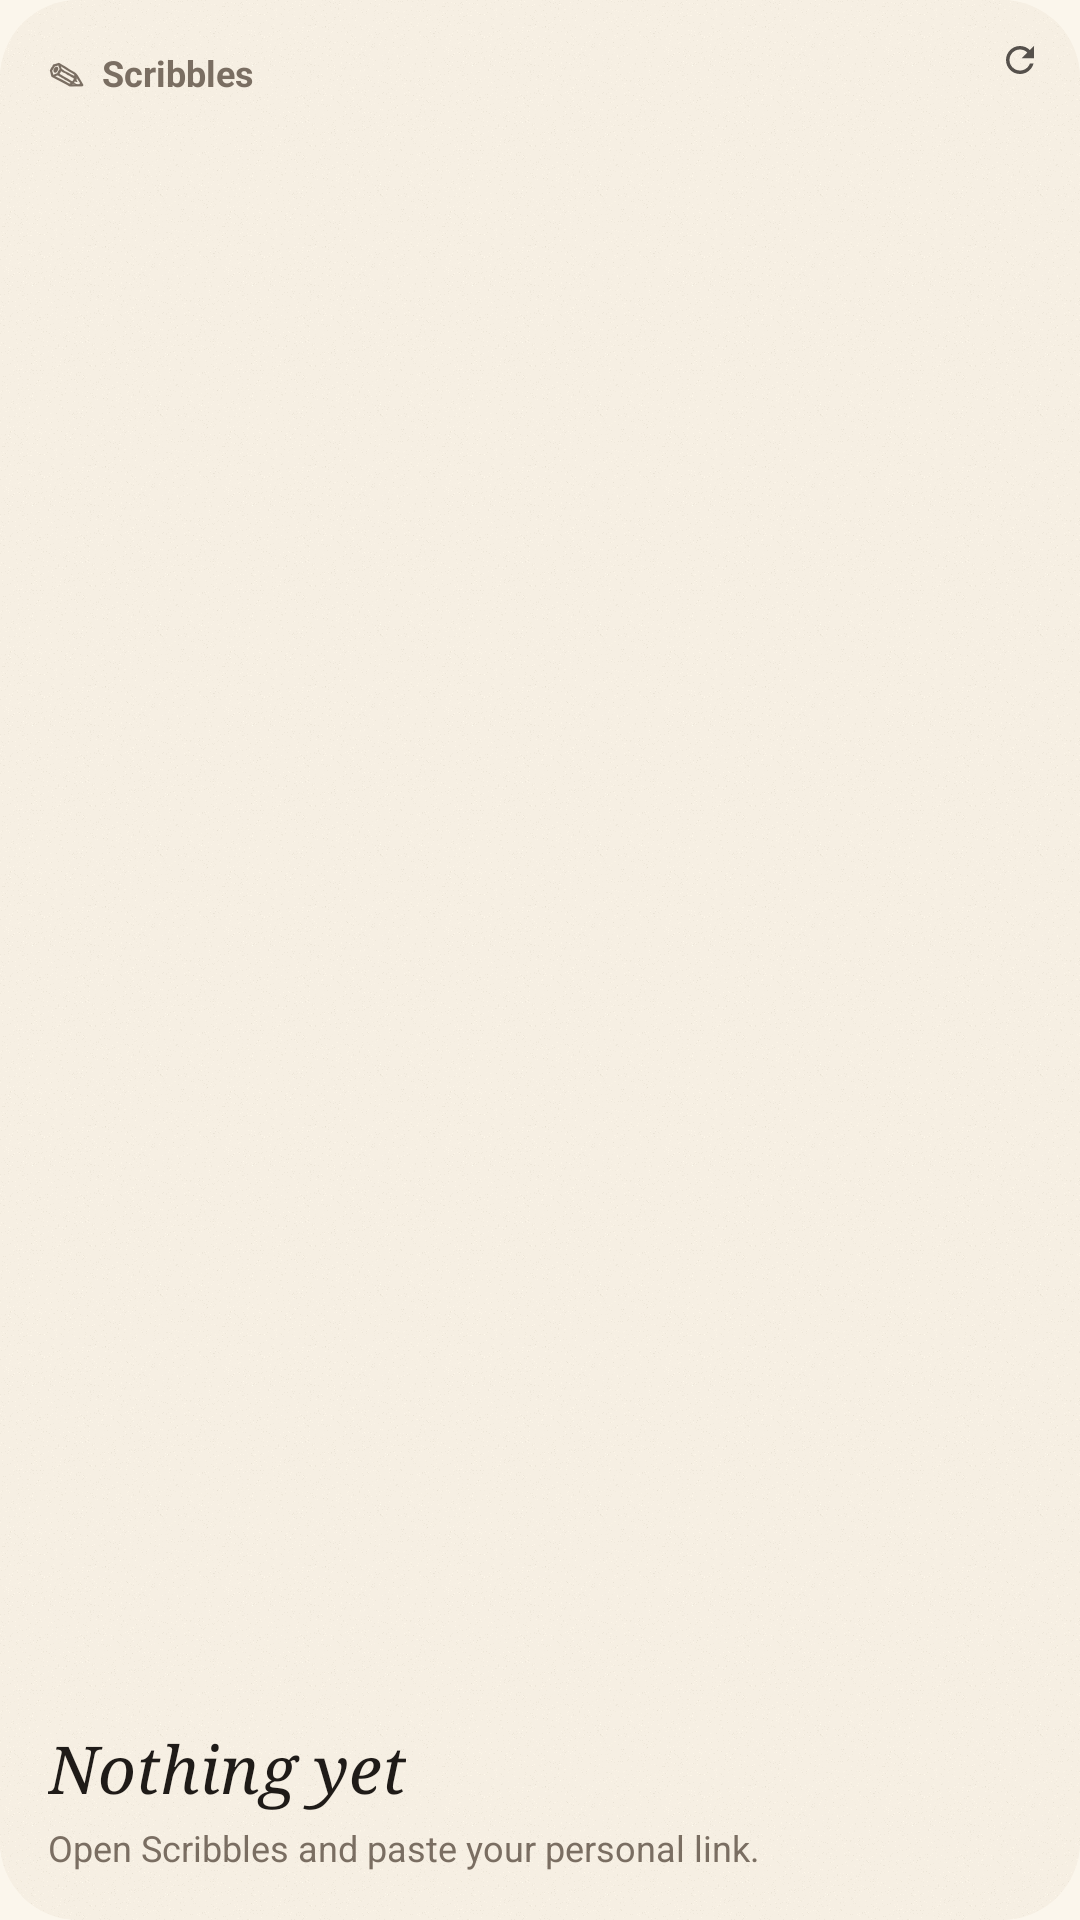

Named icons in this screenshot (1080px×1920px) and their bounding boxes, (x1, y1, x2, y2):
Refresh: (1006, 46, 1034, 74)
